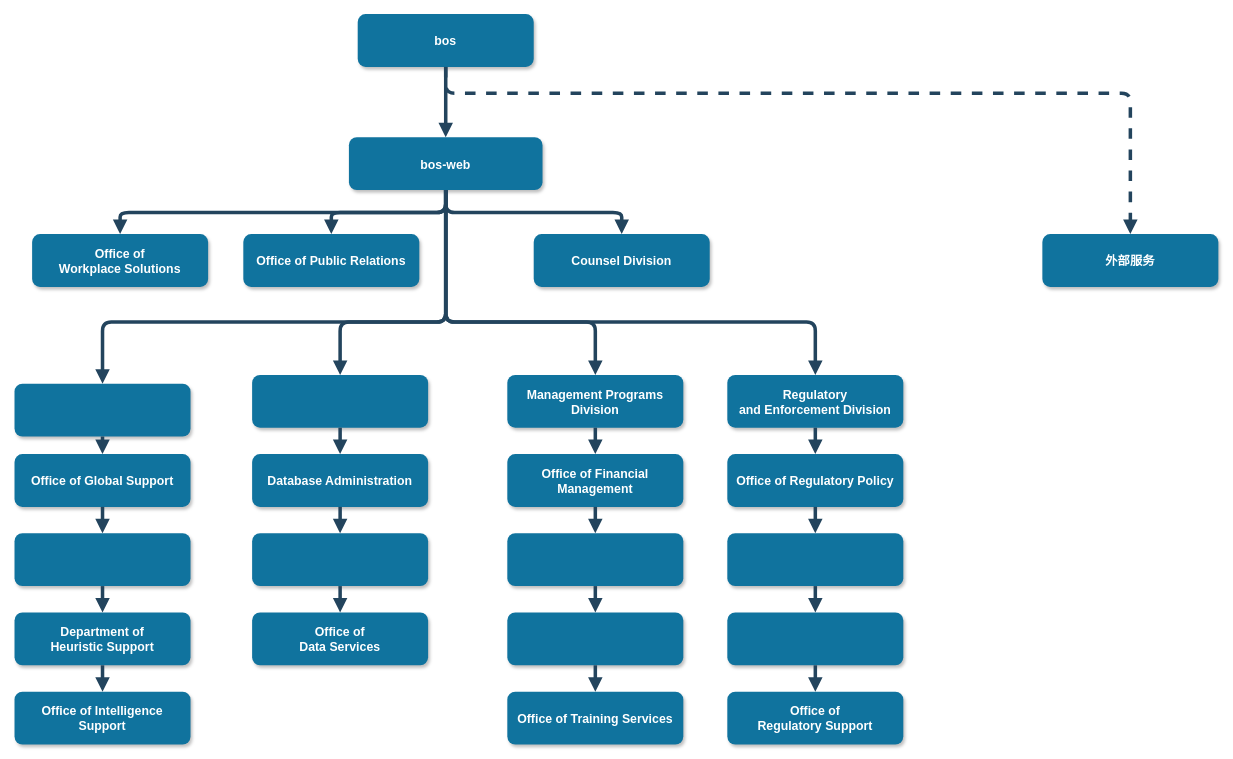
Some shapes in this 1233 by 759 pixel diagram are drawn without their labels. The centre of each missing label's shape, as x and y in pixels:
"Analysis Division" belongs at (103,411).
"IT Division" belongs at (340,402).
"Office Compliance" belongs at (815,560).
"Office of Backtrack Analysis" belongs at (103,560).
"Office of Enforcement" belongs at (815,640).
"Office of Human Resources" belongs at (595,560).
"Office of Management" belongs at (595,640).
"Office of Technology Research" belongs at (340,560).
